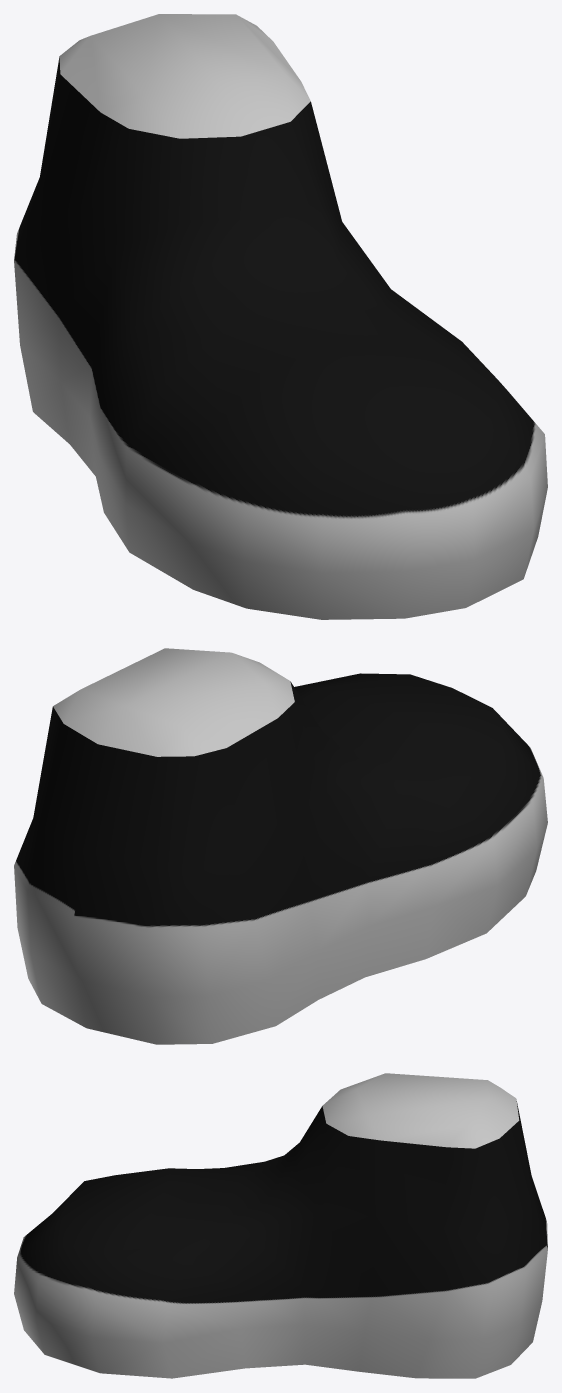
The model's file is r_foot.FBX.
3 renders of one model, top to bottom at view 1: azimuth 30°, elevation 25°; view 2: azimuth 150°, elevation 25°; view 3: azimuth 270°, elevation 25°, orthographic. The views are drawn at different scales.
Visible parts, largest first — view 1: r_foot; view 2: r_foot; view 3: r_foot.
Boxes of the visible parts, x1,y1,x2,y2 form: r_foot: [14, 14, 547, 619]; r_foot: [14, 648, 547, 1044]; r_foot: [14, 1073, 547, 1378].
Bounding box in the file's own units: 105 × 196 × 96.98.
1 material, 1 textured.
